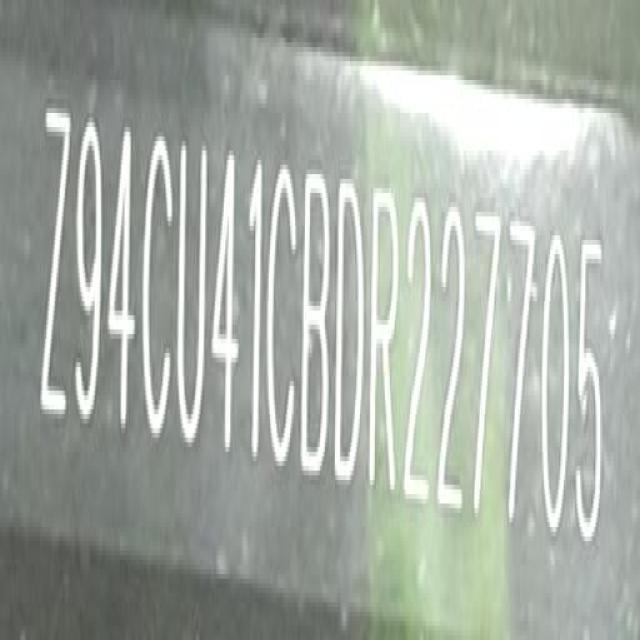0: (543, 229, 572, 545)
1: (245, 157, 262, 467)
2: (436, 202, 468, 521), (403, 195, 434, 516)
4: (108, 123, 140, 444), (211, 149, 242, 460)
5: (574, 232, 605, 547)
7: (471, 206, 502, 530), (510, 214, 538, 535)
9: (73, 117, 105, 435)
B: (301, 168, 334, 478)
C: (139, 131, 175, 447), (267, 166, 298, 474)
D: (337, 173, 368, 481)
R: (368, 183, 400, 495)
U: (175, 132, 211, 452)
Z: (39, 109, 73, 431)
